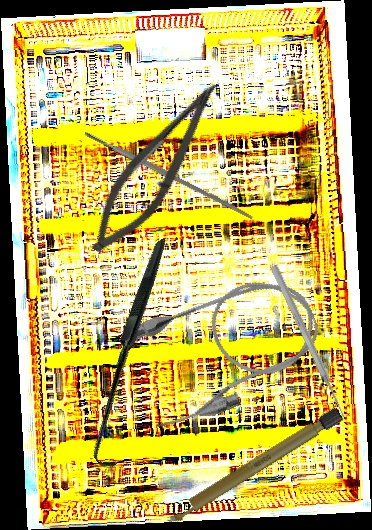Cannula: (118, 262, 335, 437)
Hook Surgical: (14, 237, 254, 473)
Micro Scissor: (78, 66, 231, 267)
Pusher: (268, 263, 349, 420)
Scalpel Handle: (161, 405, 346, 529), (83, 128, 255, 222)
